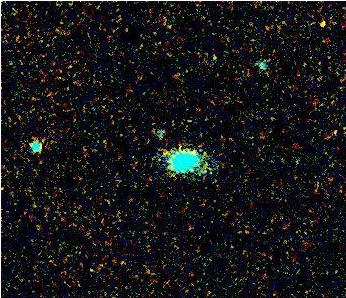star: (308, 9, 338, 39)
